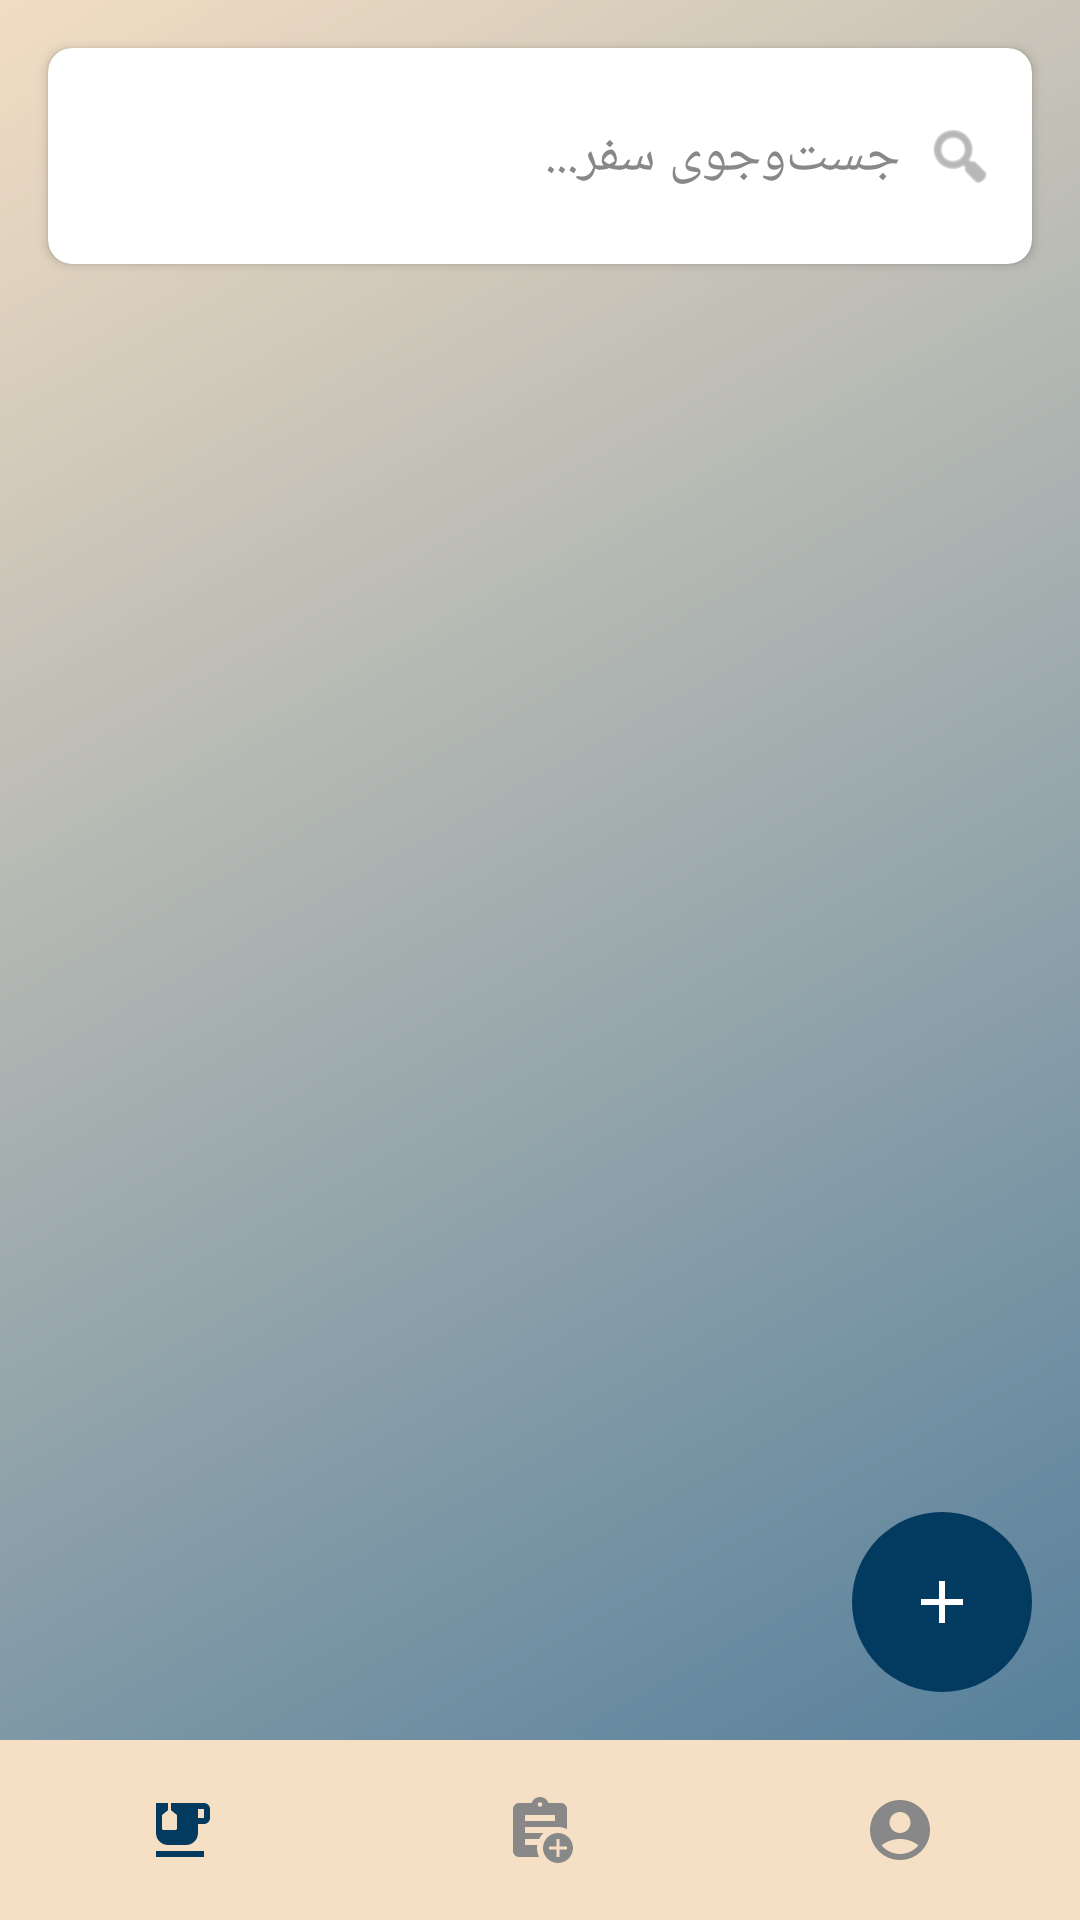

Where to tap for icons on this 1080×1920 app screen, as point (x, y):
search: point (960, 156)
افزودن سفر جدید: point (942, 1602)
